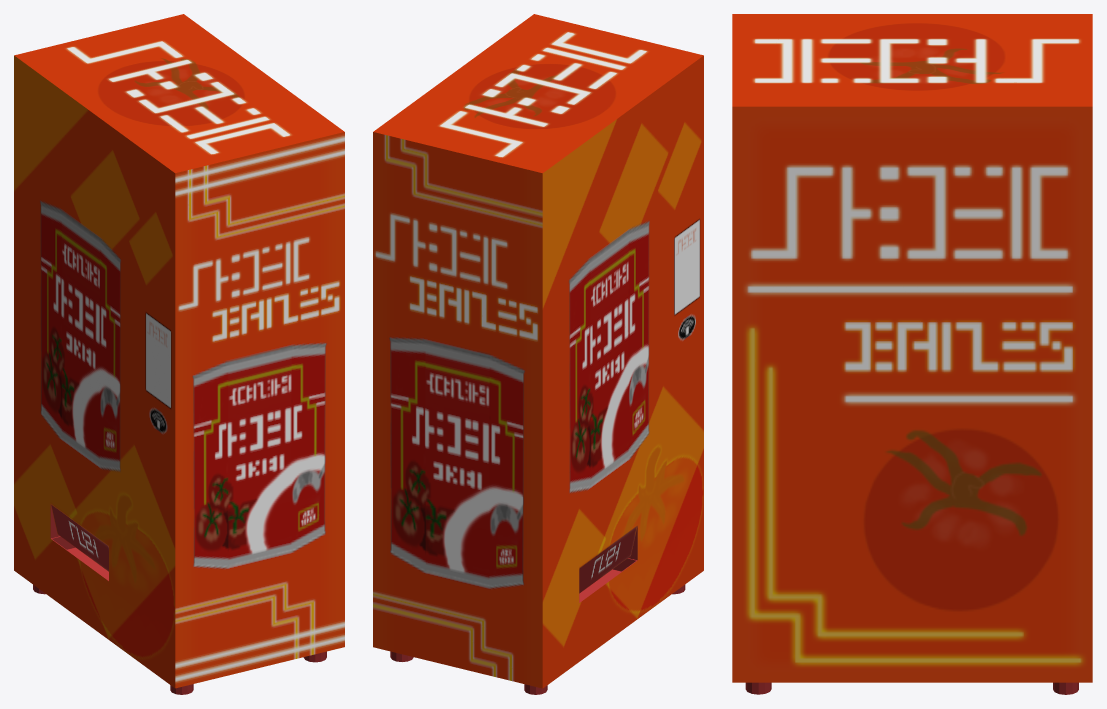
Rendered from newVB2.fbx.
3 renders of one model, left to right at view 1: azimuth 30°, elevation 25°; view 2: azimuth 150°, elevation 25°; view 3: azimuth 270°, elevation 25°, orthographic. The views are drawn at different scales.
Visible parts, largest first — view 1: Cube; view 2: Cube; view 3: Cube.
Part boxes in pixels (<box>): Cube: <box>14,14,344,694</box>; Cube: <box>373,14,703,694</box>; Cube: <box>732,14,1092,694</box>.
Size of the model in its own units: 110 by 328 by 181.
